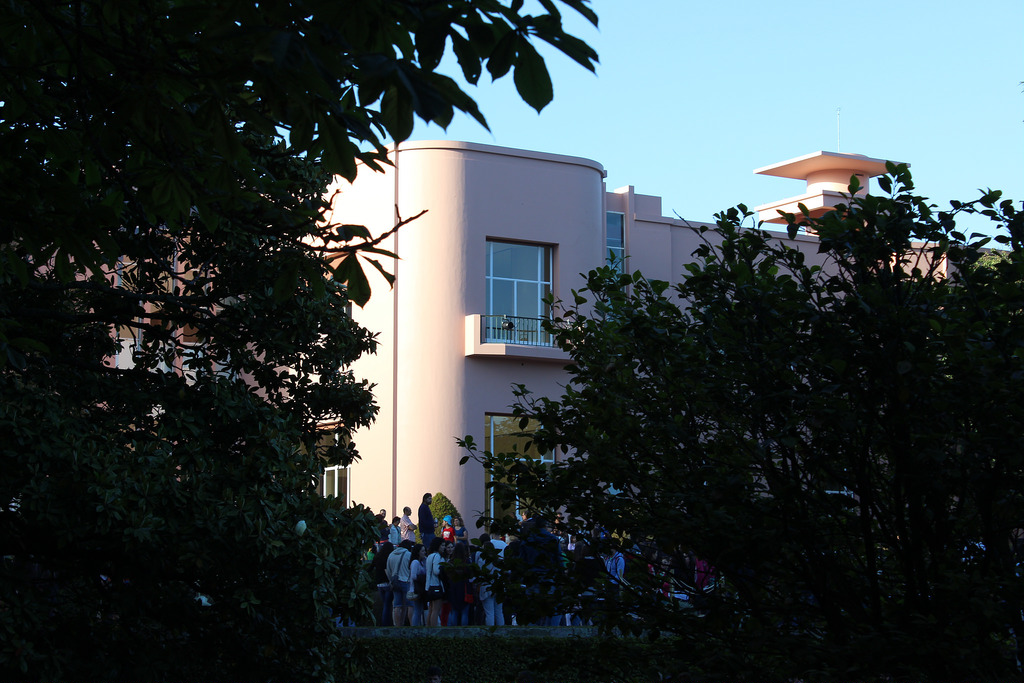serralves: (12, 126, 1023, 542)
